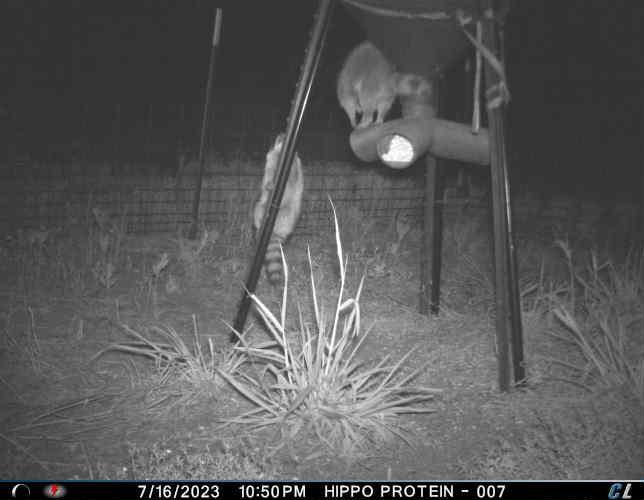Raccoon: (253, 131, 307, 286), (335, 41, 429, 127)
